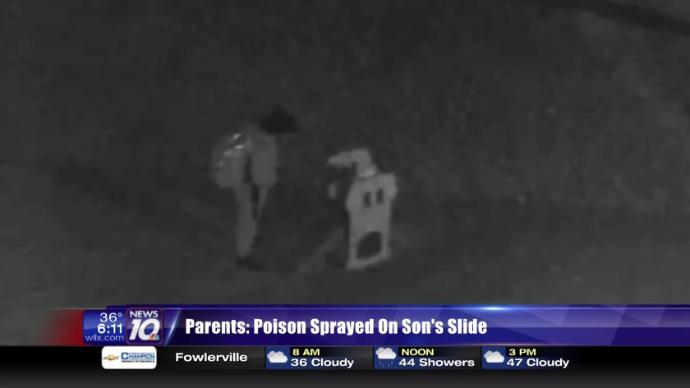person: (201, 75, 301, 270)
